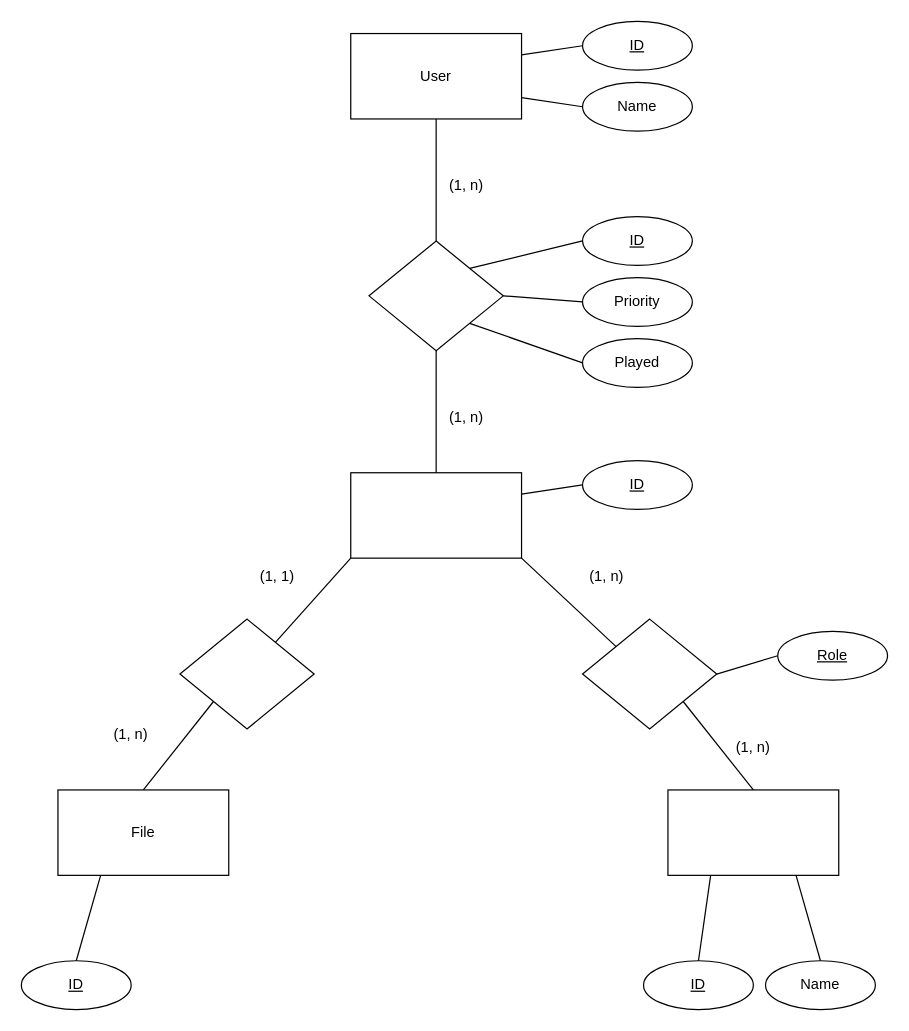
The diagram is 909 pixels wide and 1031 high, and some of its shapes have lost their labels. Each missing label, with the box of its shape:
Contributes: (581, 618, 717, 729)
Contributor: (667, 789, 839, 875)
Has: (179, 618, 314, 729)
Queue: (368, 240, 503, 351)
Song: (350, 472, 522, 558)
